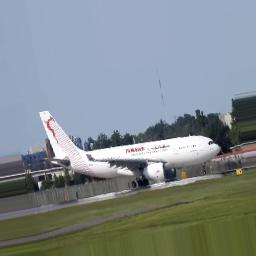Airplane: (38, 110, 223, 188)
